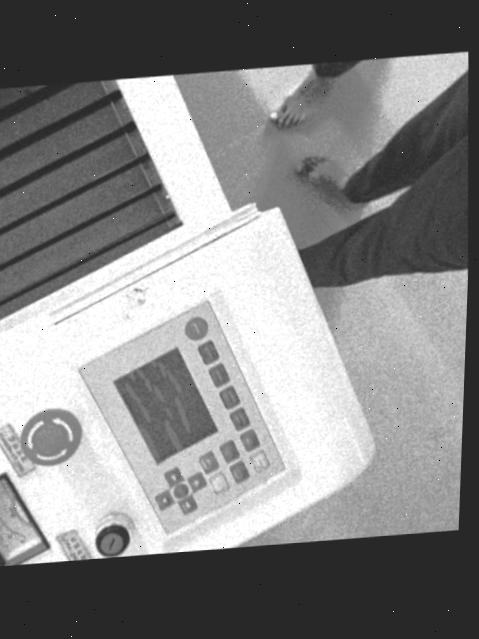Amp_Meter: (0, 474, 47, 566)
Display: (113, 348, 217, 462)
Down_button: (188, 473, 206, 491)
Emergency_Stop: (19, 408, 81, 465)
Enter_button: (209, 472, 229, 494)
Esc_button: (199, 452, 219, 473)
File_button: (240, 430, 259, 451)
Frame_button: (230, 461, 249, 482)
Left_button: (164, 468, 182, 486)
Max-Power_button: (230, 408, 249, 430)
Min-Power_button: (219, 386, 239, 408)
Origin_button: (219, 441, 239, 462)
Power_switch: (94, 512, 138, 558)
Pulse_button: (198, 341, 218, 363)
Reset_button: (185, 317, 208, 339)
Right_button: (179, 496, 196, 514)
Speed_button: (208, 364, 229, 386)
Start-Pause_button: (250, 450, 269, 471)
Up_button: (154, 491, 173, 509)
Z_U_button: (173, 484, 188, 498)
